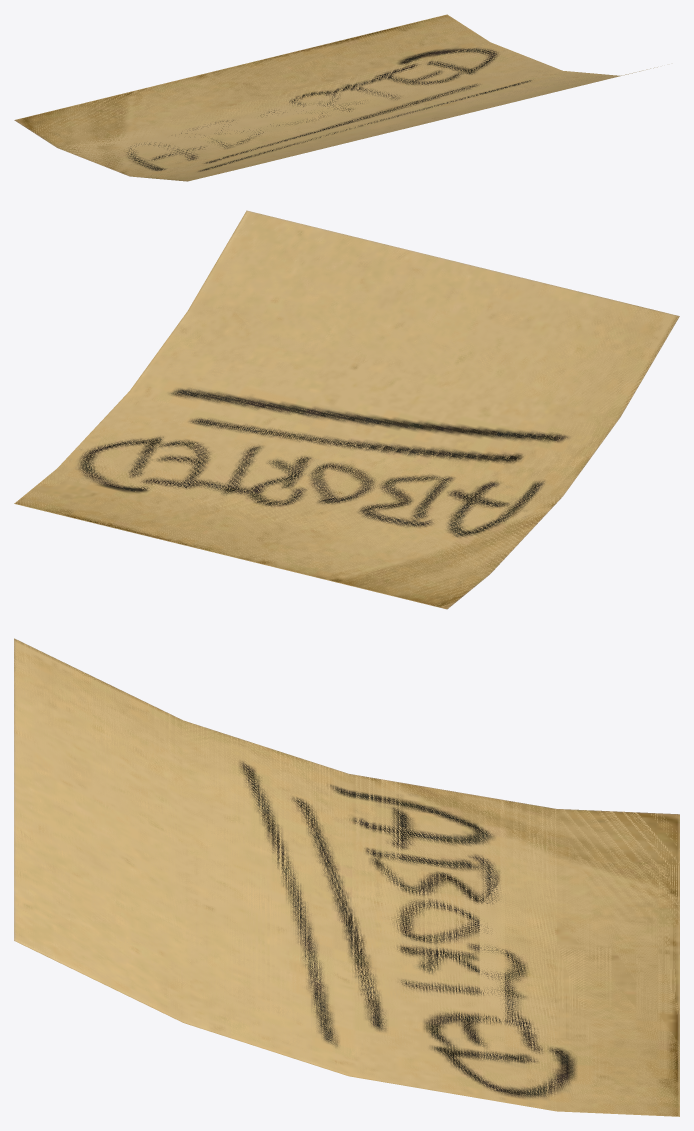
The model's file is notes_mission_aborted_06.dae.
The picture shows the model from 3 angles, top to bottom: view 1: azimuth 30°, elevation 25°; view 2: azimuth 150°, elevation 25°; view 3: azimuth 270°, elevation 25°; orthographic projection. The views are drawn at different scales.
Visible parts, largest first — view 1: postit_aborted; view 2: postit_aborted; view 3: postit_aborted.
Boxes of the visible parts, bbox=[...] form: postit_aborted: bbox=[14, 14, 657, 181]; postit_aborted: bbox=[14, 210, 679, 609]; postit_aborted: bbox=[14, 638, 679, 1116].
Bounding box in the file's own units: 0.125 × 0.0339 × 0.1163.
